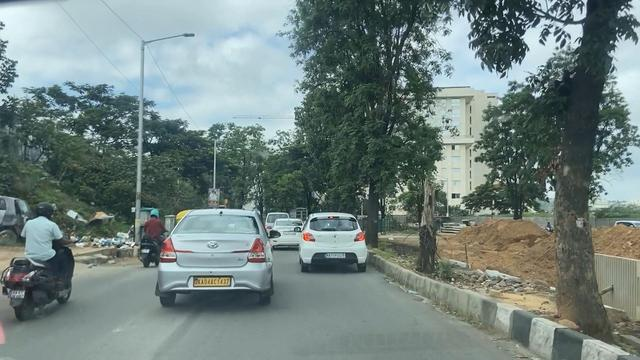LMV: (164, 226, 261, 295), (12, 209, 75, 296), (306, 218, 364, 272), (144, 209, 156, 262)
